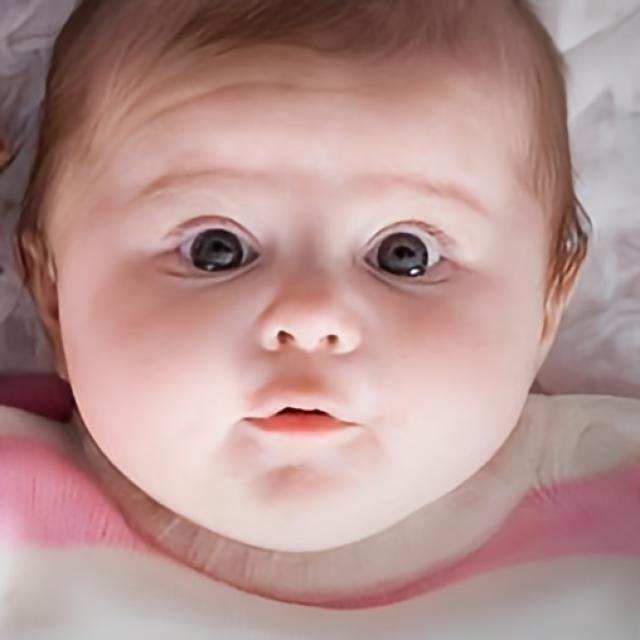surprise: (57, 0, 545, 554)
